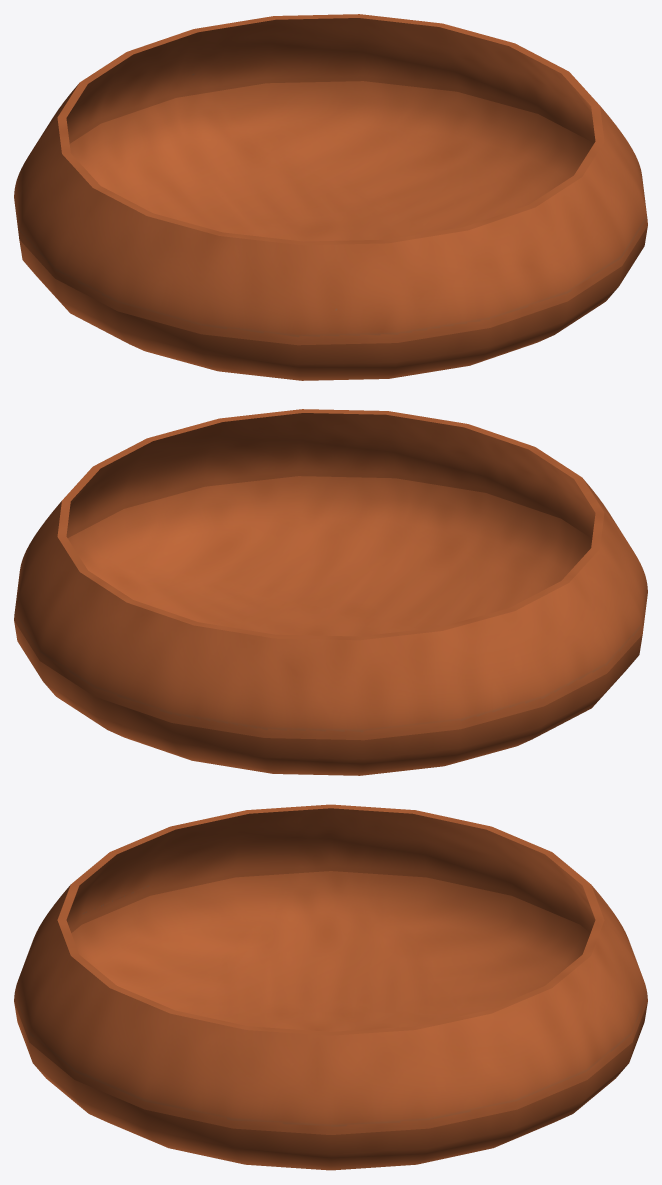
File: bor5.fbx
The picture shows the model from 3 angles, top to bottom: view 1: azimuth 30°, elevation 25°; view 2: azimuth 150°, elevation 25°; view 3: azimuth 270°, elevation 25°; orthographic projection.
Parts seen in each view (by area): view 1: BezierCurve.009; view 2: BezierCurve.009; view 3: BezierCurve.009.
Part boxes in pixels (x1,y1,x2,y2): BezierCurve.009: (14, 14, 647, 380); BezierCurve.009: (14, 409, 647, 775); BezierCurve.009: (14, 804, 647, 1170).
Bounding box in the file's own units: 352 × 105 × 352.
